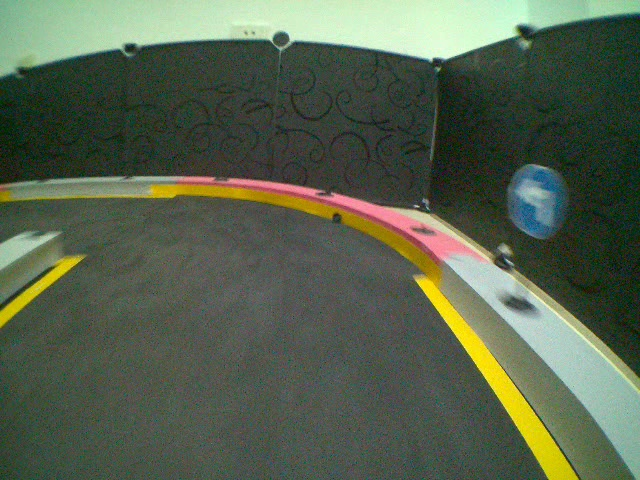turn: (502, 161, 576, 241)
